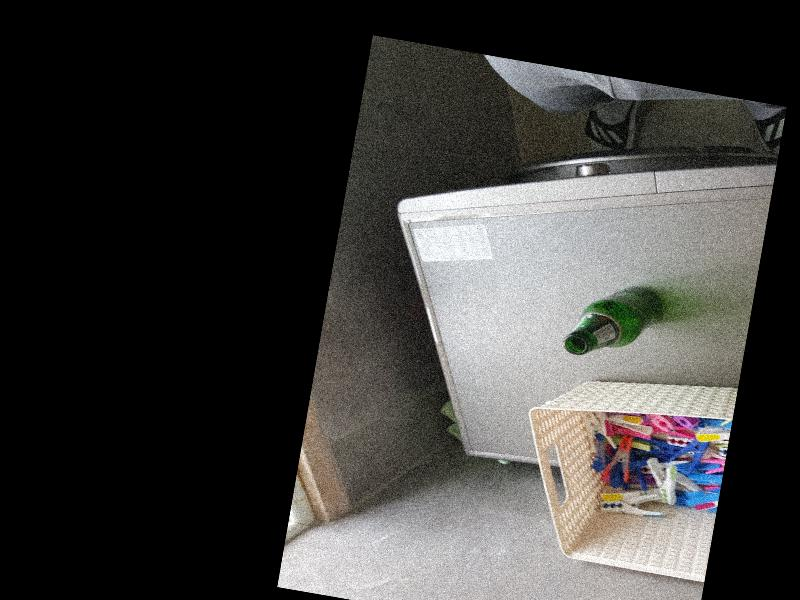Beer: (561, 274, 665, 366)
